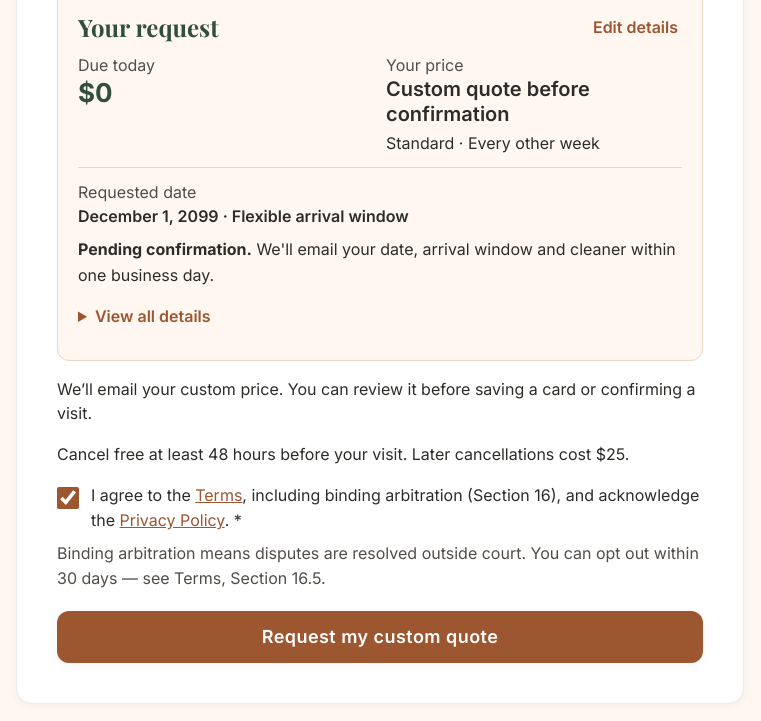
completes an unpriced request without fetching a payment status or restoring an unrelated visit
This screenshot has width=761, height=721.
Earlier steps of the test are not shown.
(page scrolled)
Click the button "Request my custom quote". click: [380, 637]
box: [57,611,703,663]
(page scrolled)
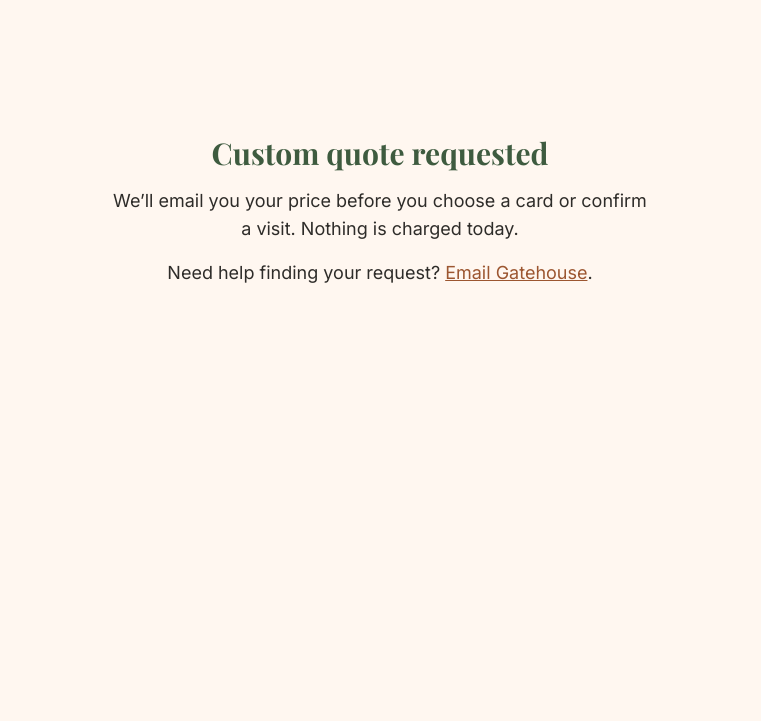
Result: the heading "Custom quote requested" is shown at [212,133,548,173]
